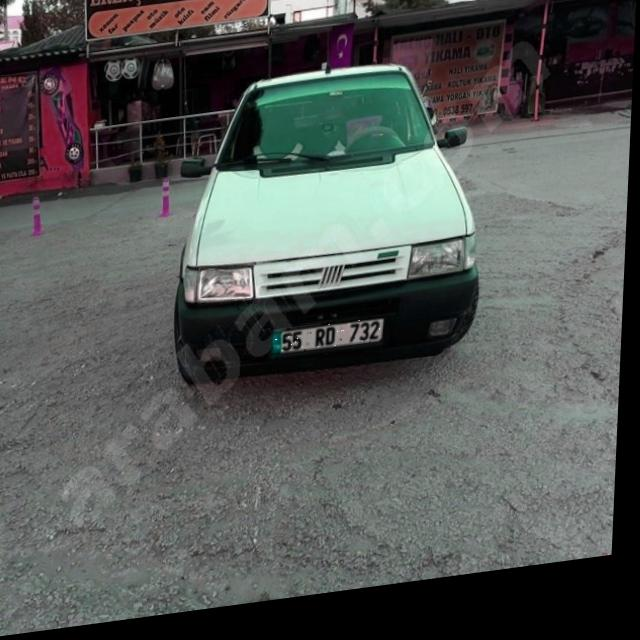license_plate: (275, 327, 388, 364)
